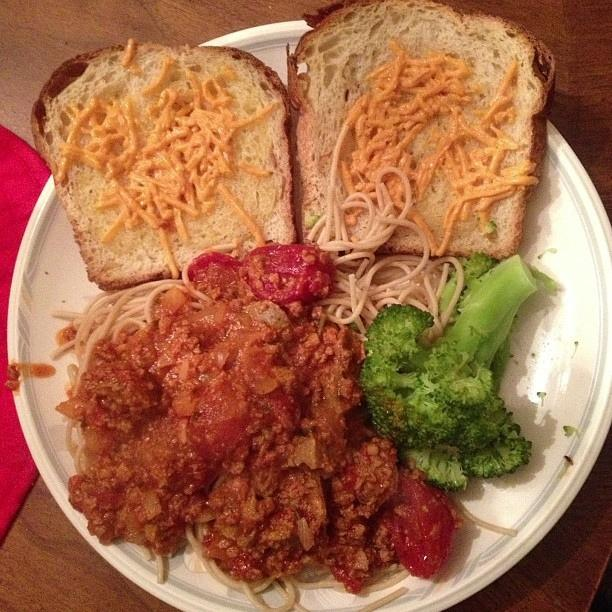broccoli: (358, 256, 538, 494)
tomato: (382, 458, 464, 580), (240, 240, 335, 306), (189, 381, 247, 462), (188, 252, 242, 298)
